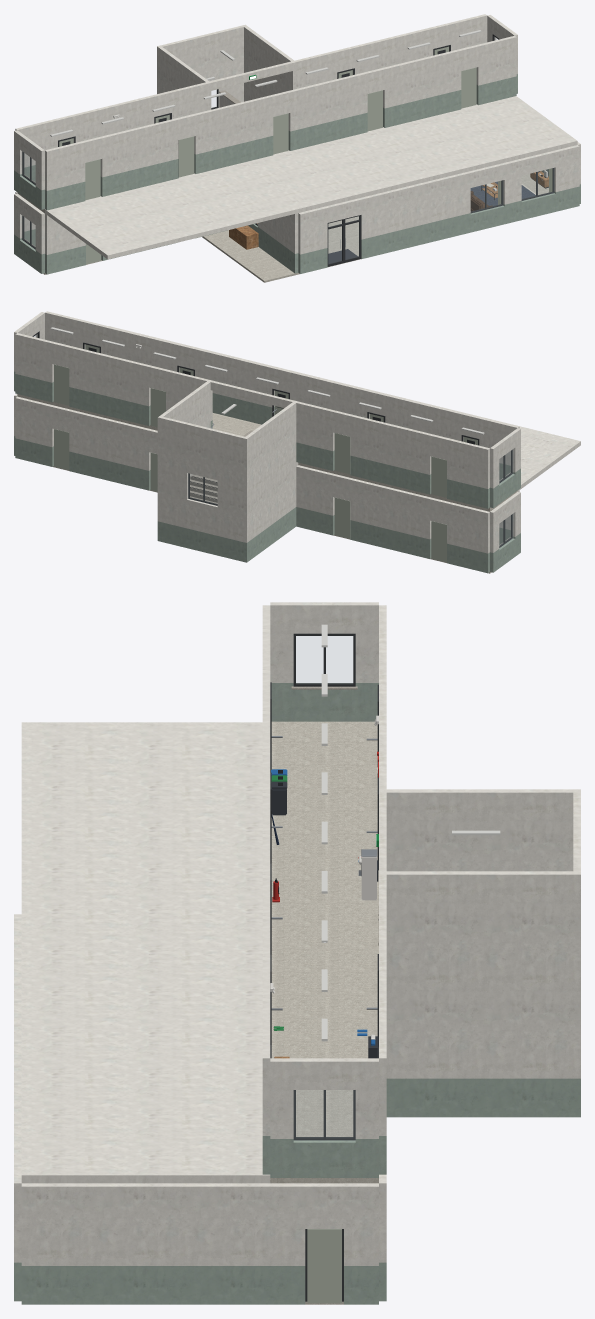
The model's file is dorm_hall.glb.
3 renders of one model, top to bottom at view 1: azimuth 30°, elevation 25°; view 2: azimuth 150°, elevation 25°; view 3: azimuth 270°, elevation 25°, orthographic. The views are drawn at different scales.
Visible parts, largest first — view 1: L1_slab_south, L1_dm_plaster_hSupdownEW, L1_dm_plaster_hNupdownEW, L0_WALL_wall+0+0-1_dm_plaster_hupdownEW, L1_dm_dado_hSupdownEW, L0_WALL_wall+0+0-1_dm_dado_hupdownEW, L1_dm_door, L0_WALL_wall+0+0+1_dm_plaster_hupdownEW, L0_dm_terrazzo_lm1.3_hsidedown, L0_dm_glass, L0_dm_plaster_hWupdownNS, L0_dm_plaster_hEupdownNS (+15 smaller); view 2: L1_dm_plaster_hNupdownEW, L0_dm_plaster_hNupdownEW, L1_dm_plaster_hSupdownEW, L0_WALL_wall+0+0+1_dm_plaster_hupdownEW, L1_dm_dado_hNupdownEW, L0_dm_dado_hNupdownEW, L0_dm_plaster_hWupdownNS, L1_dm_door, L1_slab_south, L0_dm_door, L0_WALL_wall+0+0+1_dm_dado_hupdownEW, L1_floor (+13 smaller); view 3: L1_slab_south, L0_dm_plaster_hEupdownNS, L1_floor, L0_WALL_wall-1+0+0_dm_plaster_hupdownNS, L0_dm_plaster_hWupdownNS, L0_WALL_wall-1+0+0_dm_dado_hupdownNS, L0_wellE_lo_iw_60, L1_WALL_wall-1+0+0_dm_plaster_hupdownNS, L1_WALL_wall+1+0+0_dm_plaster_hupdownNS, L1_dm_glass, L1_dm_plaster_hSupdownEW, L1_WALL_wall-1+0+0_dm_dado_hupdownNS (+8 smaller).
Part boxes in pixels (<box>): L1_slab_south: <box>45,96,577,259</box>; L1_dm_plaster_hSupdownEW: <box>45,35,516,190</box>; L1_dm_plaster_hNupdownEW: <box>15,14,487,167</box>; L0_WALL_wall+0+0-1_dm_plaster_hupdownEW: <box>298,145,579,254</box>; L1_dm_dado_hSupdownEW: <box>45,76,516,210</box>; L0_WALL_wall+0+0-1_dm_dado_hupdownEW: <box>298,186,579,273</box>; L1_dm_door: <box>59,46,476,200</box>; L0_WALL_wall+0+0+1_dm_plaster_hupdownEW: <box>157,24,246,107</box>; L0_dm_terrazzo_lm1.3_hsidedown: <box>43,173,548,282</box>; L0_dm_glass: <box>22,90,553,263</box>; L0_dm_plaster_hWupdownNS: <box>159,47,298,253</box>; L0_dm_plaster_hEupdownNS: <box>244,26,293,101</box>; L1_dm_plaster_hNupdownEW: <box>15,333,489,488</box>; L0_dm_plaster_hNupdownEW: <box>15,396,489,553</box>; L1_dm_plaster_hSupdownEW: <box>45,311,519,465</box>; L0_WALL_wall+0+0+1_dm_plaster_hupdownEW: <box>157,416,248,542</box>; L1_dm_dado_hNupdownEW: <box>15,374,489,508</box>; L0_dm_dado_hNupdownEW: <box>15,438,489,573</box>; L0_dm_plaster_hWupdownNS: <box>245,402,298,541</box>; L1_dm_door: <box>54,344,477,497</box>; L1_slab_south: <box>108,326,580,491</box>; L0_dm_door: <box>54,429,446,562</box>; L0_WALL_wall+0+0+1_dm_dado_hupdownEW: <box>157,521,248,562</box>; L1_floor: <box>17,394,517,511</box>; L1_slab_south: <box>21,722,270,1183</box>; L0_dm_plaster_hEupdownNS: <box>386,871,573,1078</box>; L1_floor: <box>270,721,378,1183</box>; L0_WALL_wall-1+0+0_dm_plaster_hupdownNS: <box>21,1183,378,1265</box>; L0_dm_plaster_hWupdownNS: <box>386,789,573,871</box>; L0_WALL_wall-1+0+0_dm_dado_hupdownNS: <box>21,1266,378,1304</box>; L0_wellE_lo_iw_60: <box>386,1078,573,1117</box>; L1_WALL_wall-1+0+0_dm_plaster_hupdownNS: <box>270,1058,378,1138</box>; L1_WALL_wall+1+0+0_dm_plaster_hupdownNS: <box>270,602,378,682</box>; L1_dm_glass: <box>294,636,354,1140</box>; L1_dm_plaster_hSupdownEW: <box>262,605,270,1135</box>; L1_WALL_wall-1+0+0_dm_dado_hupdownNS: <box>270,1139,378,1177</box>.
Size of the model in its own units: 28 by 7 by 14.6.
30 materials, 11 textured.
